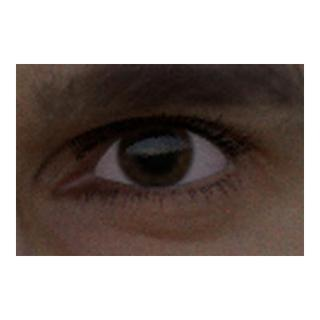pupil: (137, 133, 174, 171)
